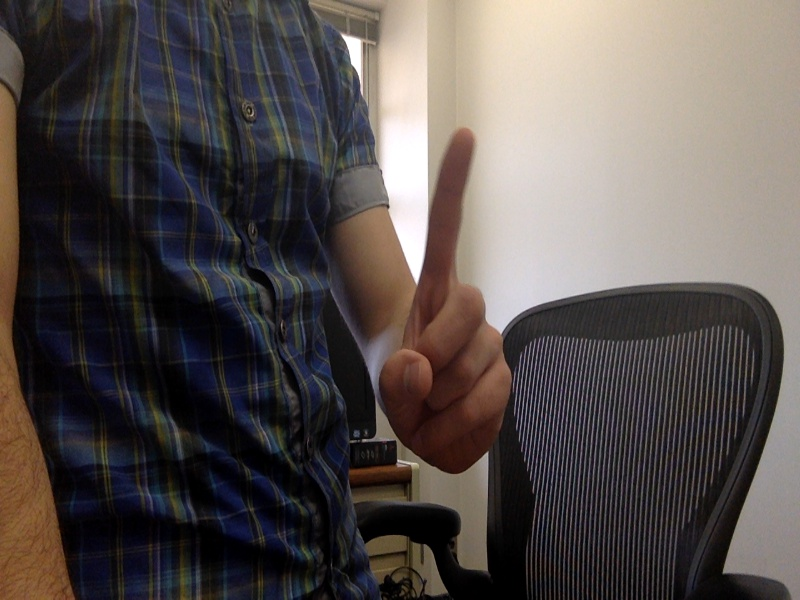1-hand: (371, 129, 514, 480)
